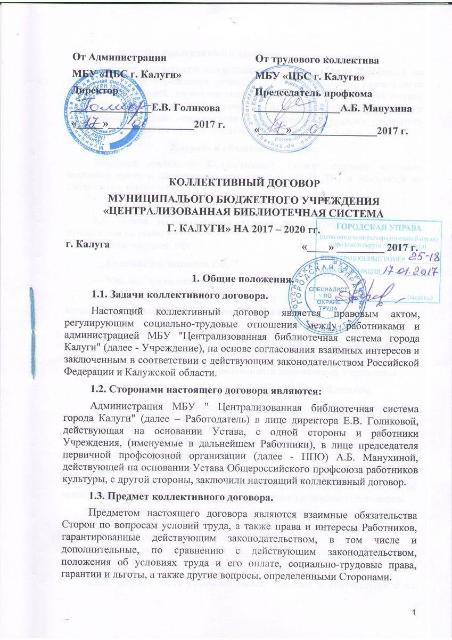stamp: (246, 63, 330, 153), (63, 70, 147, 154), (288, 256, 368, 336)
